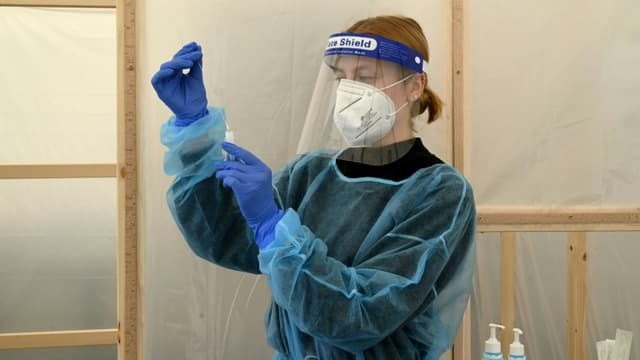with_mask: (328, 57, 410, 152)
